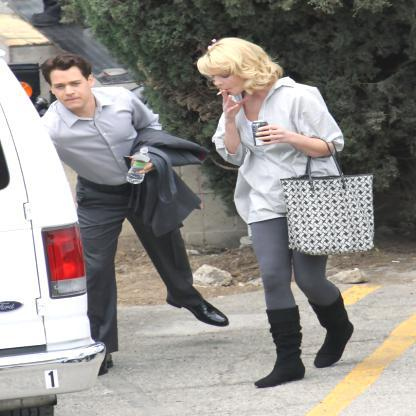person: (188, 38, 356, 374), (30, 53, 180, 356)
